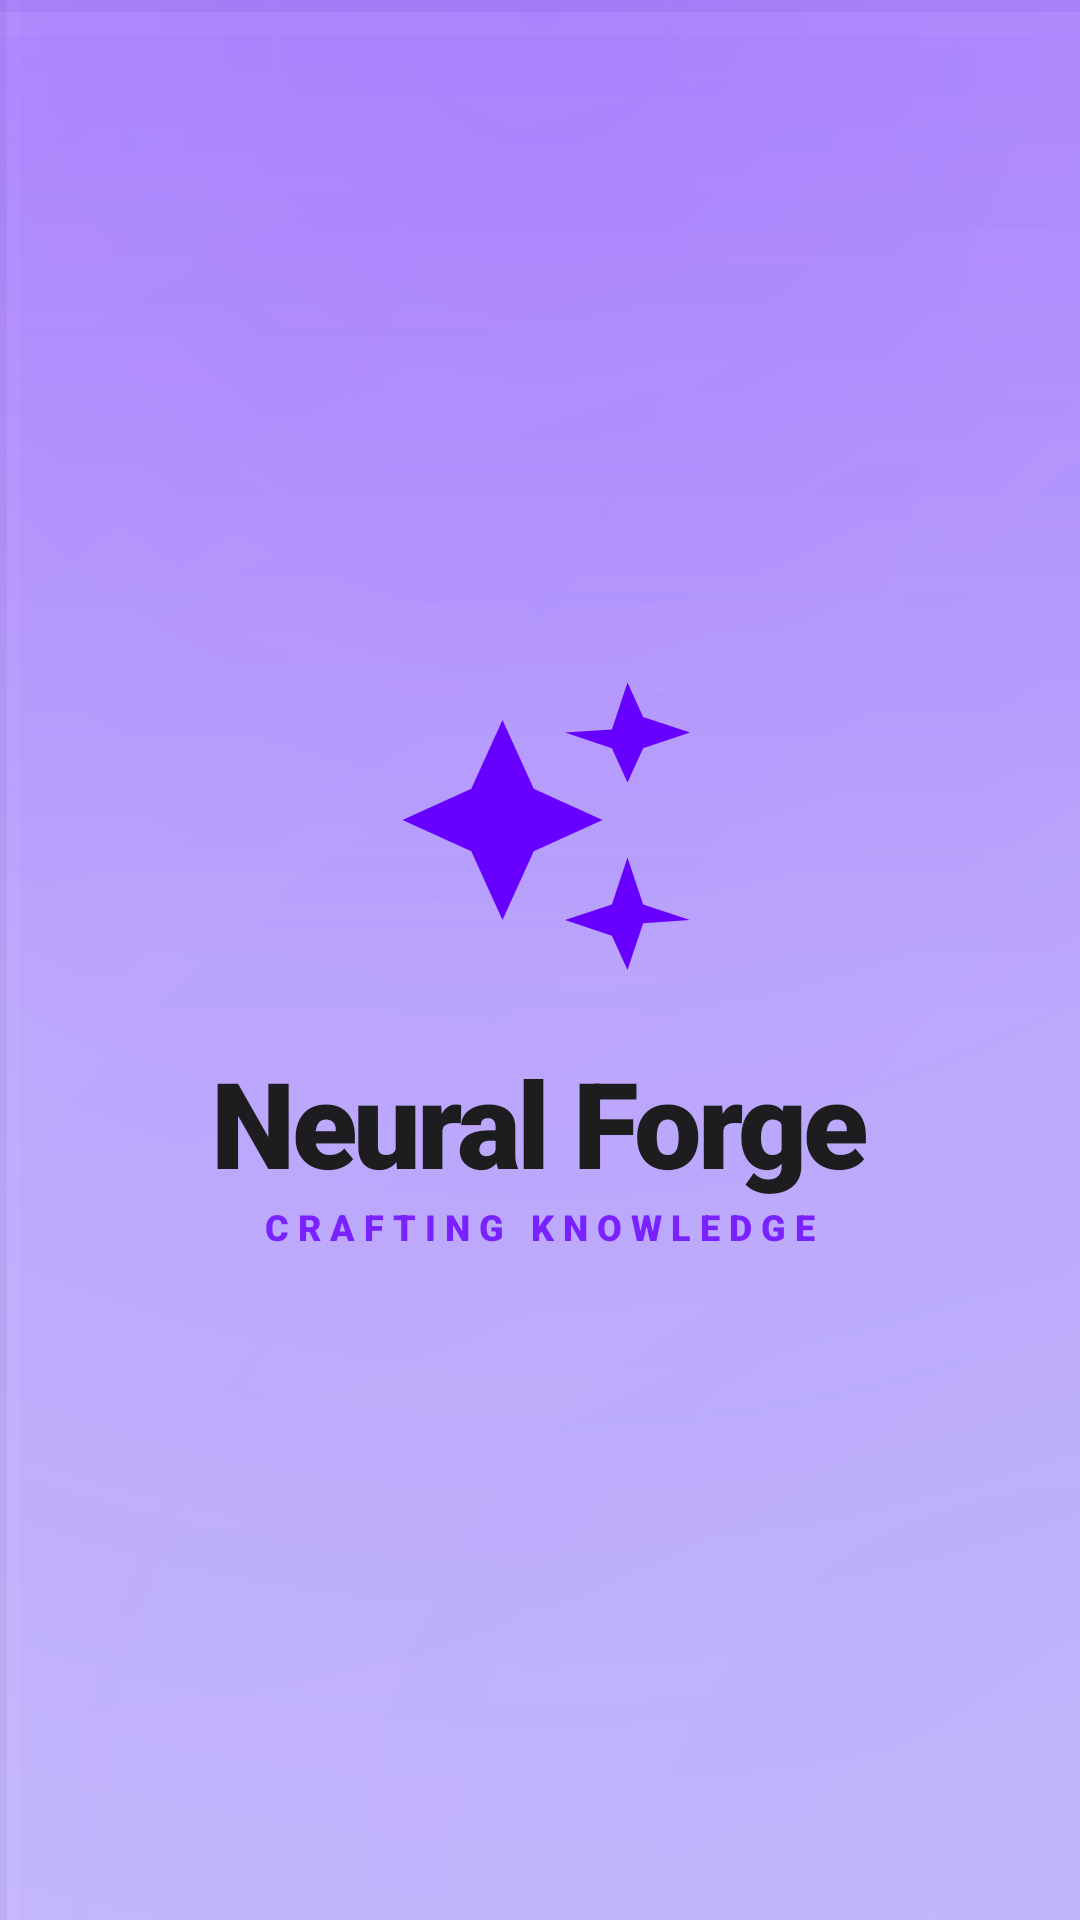

Named icons in this screenshot (1080w x 1920h) and their centers, (x=x, y=y):
ai spark: (x=546, y=826)
